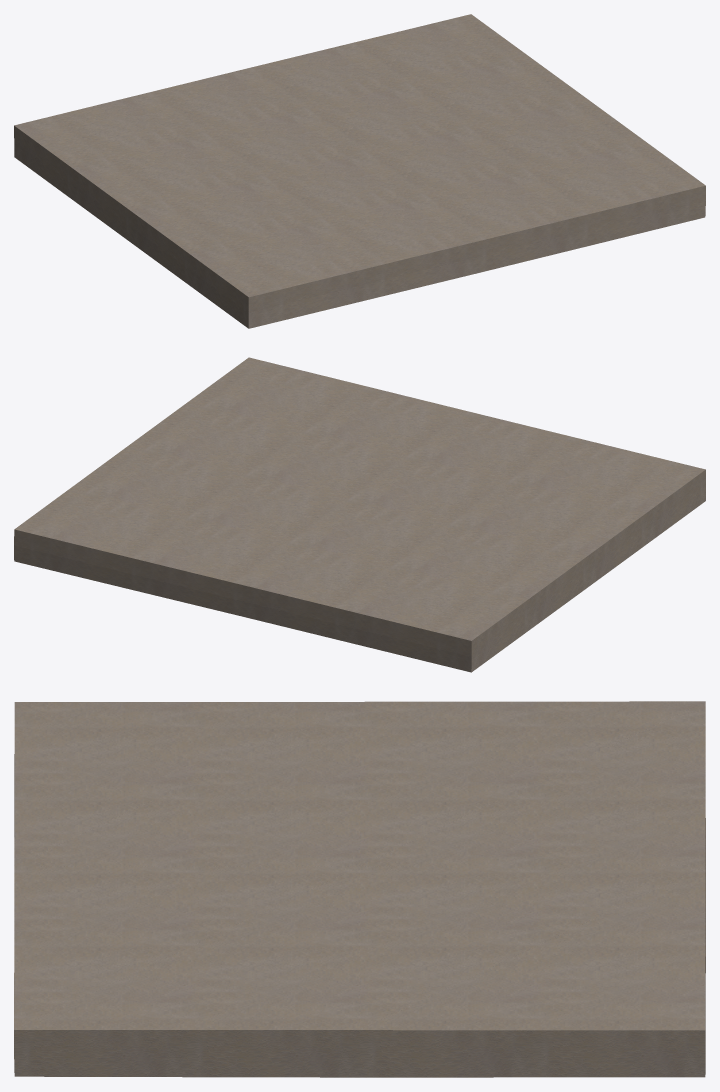
Rendered from beach.glb.
The picture shows the model from 3 angles, top to bottom: view 1: azimuth 30°, elevation 25°; view 2: azimuth 150°, elevation 25°; view 3: azimuth 270°, elevation 25°; orthographic projection. The views are drawn at different scales.
Visible parts, largest first — view 1: Beach; view 2: Beach; view 3: Beach.
Boxes of the visible parts, x1=… form: Beach: x1=14, y1=14, x2=705, y2=328; Beach: x1=14, y1=357, x2=705, y2=672; Beach: x1=14, y1=701, x2=705, y2=1077.
Size of the model in its own units: 18.01 by 1.21 by 16.02.
Materials: 1 (1 with a texture image).
